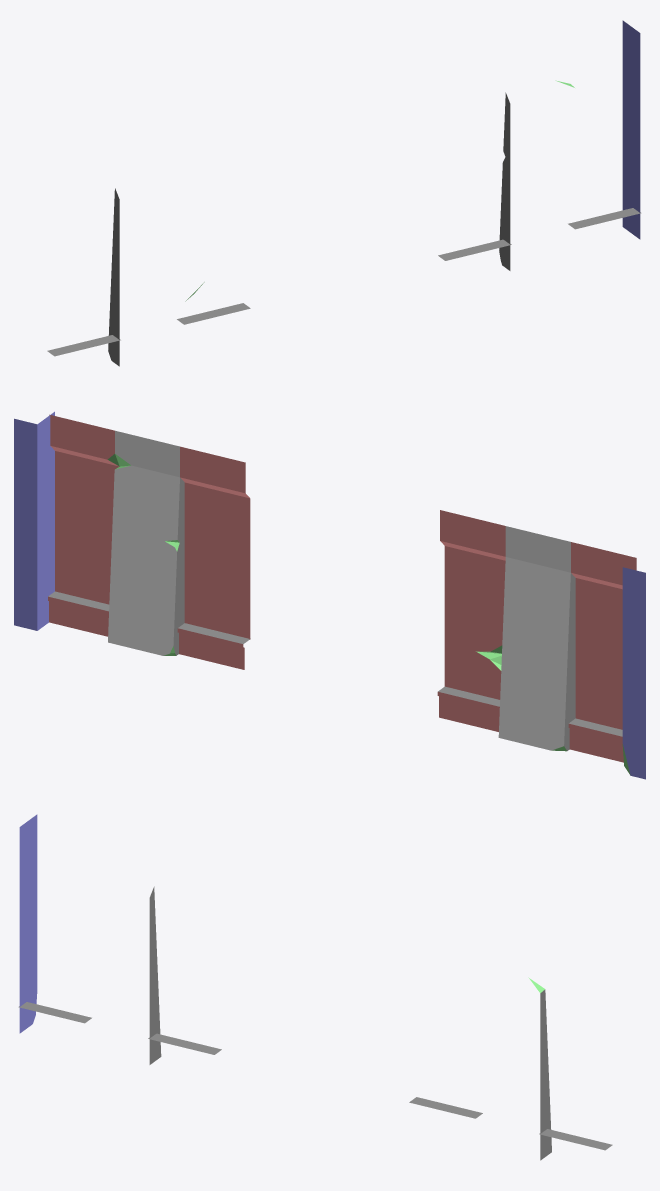
The model's file is SSQ_BRoom01_Wall01.gltf.
The picture shows the model from 3 angles, top to bottom: view 1: azimuth 30°, elevation 25°; view 2: azimuth 150°, elevation 25°; view 3: azimuth 330°, elevation 25°; orthographic projection.
Parts seen in each view (by area): view 1: SSQ_BRoom01_Wall01; view 2: SSQ_BRoom01_Wall01; view 3: SSQ_BRoom01_Wall01.
Part boxes in pixels (<box>): SSQ_BRoom01_Wall01: <box>47,20,641,366</box>; SSQ_BRoom01_Wall01: <box>14,411,645,779</box>; SSQ_BRoom01_Wall01: <box>18,814,612,1160</box>.
Bounding box in the file's own units: 12.42 × 3.88 × 0.7595.
